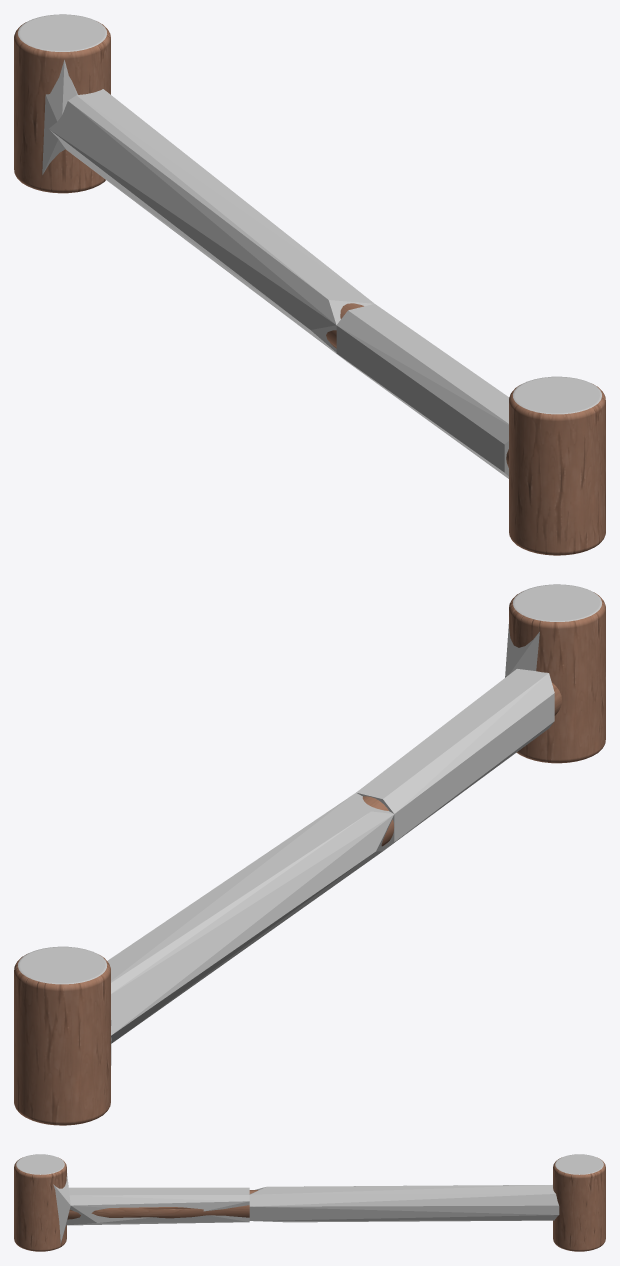
The model's file is SM_WoodenPole_06.fbx.
3 renders of one model, top to bottom at view 1: azimuth 30°, elevation 25°; view 2: azimuth 150°, elevation 25°; view 3: azimuth 270°, elevation 25°, orthographic. The views are drawn at different scales.
Visible parts, largest first — view 1: SM_WoodenPole_06_ConvexHulls, SM_WoodenPole_06; view 2: SM_WoodenPole_06_ConvexHulls, SM_WoodenPole_06; view 3: SM_WoodenPole_06_ConvexHulls, SM_WoodenPole_06.
Part boxes in pixels (x1,y1,x2,y2): SM_WoodenPole_06_ConvexHulls: (42, 59, 509, 478); SM_WoodenPole_06: (14, 14, 605, 555); SM_WoodenPole_06_ConvexHulls: (107, 624, 554, 1065); SM_WoodenPole_06: (14, 584, 605, 1125); SM_WoodenPole_06_ConvexHulls: (53, 1173, 559, 1243); SM_WoodenPole_06: (14, 1154, 605, 1251).
Bounding box in the file's own units: 37.91 × 424 × 61.06.
2 materials, 1 textured.
